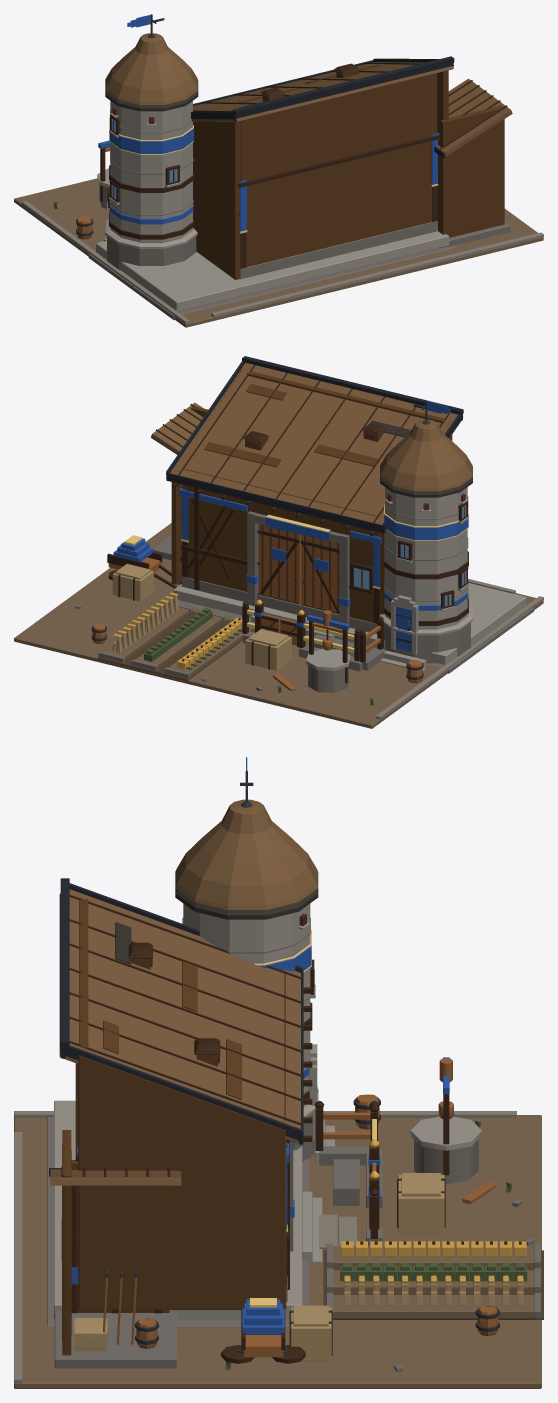
3 renders of one model, top to bottom at view 1: azimuth 30°, elevation 25°; view 2: azimuth 150°, elevation 25°; view 3: azimuth 270°, elevation 25°, orthographic. The views are drawn at different scales.
Visible parts, largest first — view 1: FM-wood_mid, FM-stone_light, FM-roof_wood, FM-earth, FM-stone_mid, FM-wood_dark, FM-roof_edge, FM-paving, FM-team, FM-stone_dark; view 2: FM-roof_wood, FM-earth, FM-stone_light, FM-wood_mid, FM-wood_dark, FM-stone_mid, FM-wood_warm, FM-team, FM-roof_edge, FM-sand, FM-earth_dark, FM-paving (+6 smaller); view 3: FM-earth, FM-wood_mid, FM-roof_wood, FM-stone_mid, FM-stone_light, FM-wood_dark, FM-sand, FM-roof_edge, FM-paving, FM-wood_warm, FM-gold, FM-moss (+4 smaller).
Boxes of the visible parts, x1=… form: FM-wood_mid: x1=193, y1=62, x2=504, y2=279; FM-stone_light: x1=96, y1=101, x2=449, y2=311; FM-roof_wood: x1=105, y1=33, x2=512, y2=156; FM-earth: x1=14, y1=178, x2=543, y2=327; FM-stone_mid: x1=88, y1=110, x2=510, y2=319; FM-wood_dark: x1=100, y1=62, x2=507, y2=268; FM-roof_edge: x1=191, y1=56, x2=454, y2=158; FM-paving: x1=22, y1=201, x2=543, y2=324; FM-team: x1=98, y1=14, x2=439, y2=231; FM-stone_dark: x1=105, y1=91, x2=285, y2=111; FM-roof_wood: x1=150, y1=363, x2=472, y2=530; FM-earth: x1=14, y1=523, x2=543, y2=728; FM-stone_light: x1=173, y1=487, x2=526, y2=670; FM-wood_mid: x1=171, y1=369, x2=452, y2=622; FM-wood_dark: x1=107, y1=365, x2=468, y2=683; FM-stone_mid: x1=74, y1=496, x2=534, y2=692; FM-wood_warm: x1=92, y1=524, x2=422, y2=691; FM-team: x1=113, y1=401, x2=468, y2=651; FM-roof_edge: x1=166, y1=356, x2=463, y2=533; FM-sand: x1=112, y1=564, x2=291, y2=670; FM-earth_dark: x1=97, y1=611, x2=254, y2=680; FM-paving: x1=292, y1=579, x2=543, y2=719; FM-earth: x1=14, y1=1115, x2=541, y2=1388; FM-wood_mid: x1=61, y1=898, x2=286, y2=1355; FM-roof_wood: x1=50, y1=799, x2=318, y2=1185; FM-stone_mid: x1=47, y1=917, x2=540, y2=1371; FM-stone_light: x1=54, y1=903, x2=481, y2=1319; FM-wood_dark: x1=61, y1=894, x2=521, y2=1363; FM-sand: x1=74, y1=1173, x2=523, y2=1360; FM-roof_edge: x1=49, y1=878, x2=303, y2=1176; FM-paving: x1=14, y1=1111, x2=516, y2=1383; FM-wood_warm: x1=103, y1=1058, x2=498, y2=1357; FM-gold: x1=341, y1=1139, x2=526, y2=1282; FM-moss: x1=225, y1=1120, x2=527, y2=1369.
Size of the model in its own units: 15.35 by 10.11 by 12.75.
